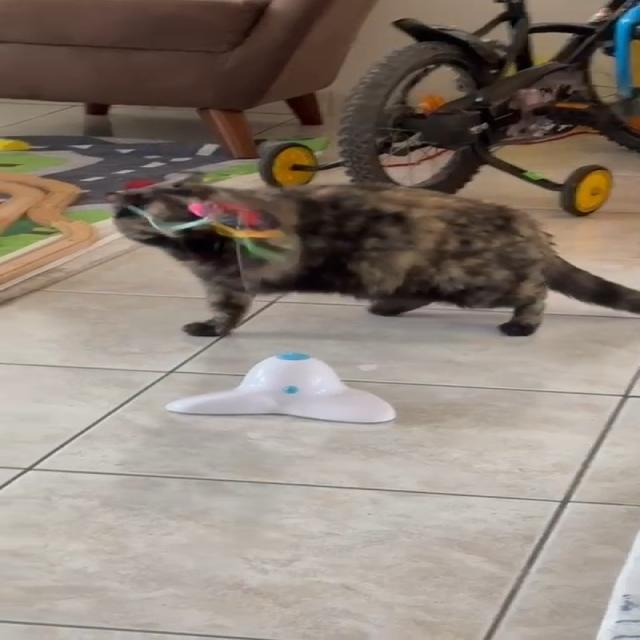authorized: (104, 170, 639, 337)
